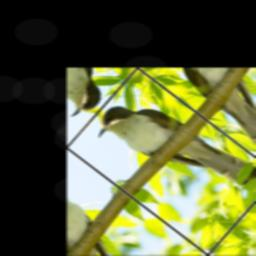Cuckoo: (89, 75, 256, 233)
